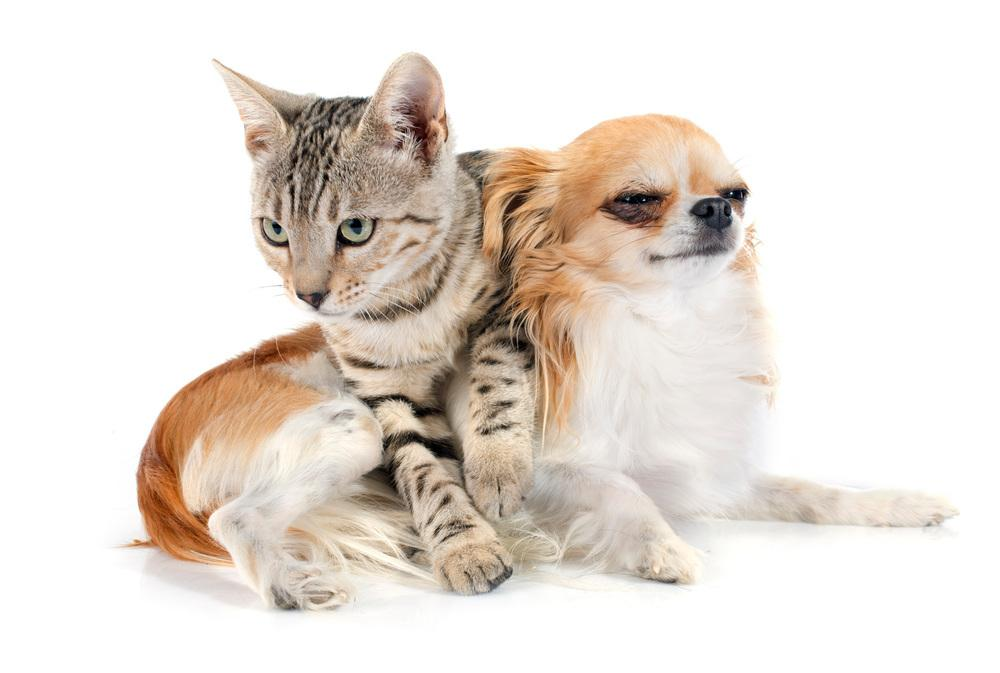cat: (206, 63, 542, 561)
dog: (502, 105, 959, 573)
